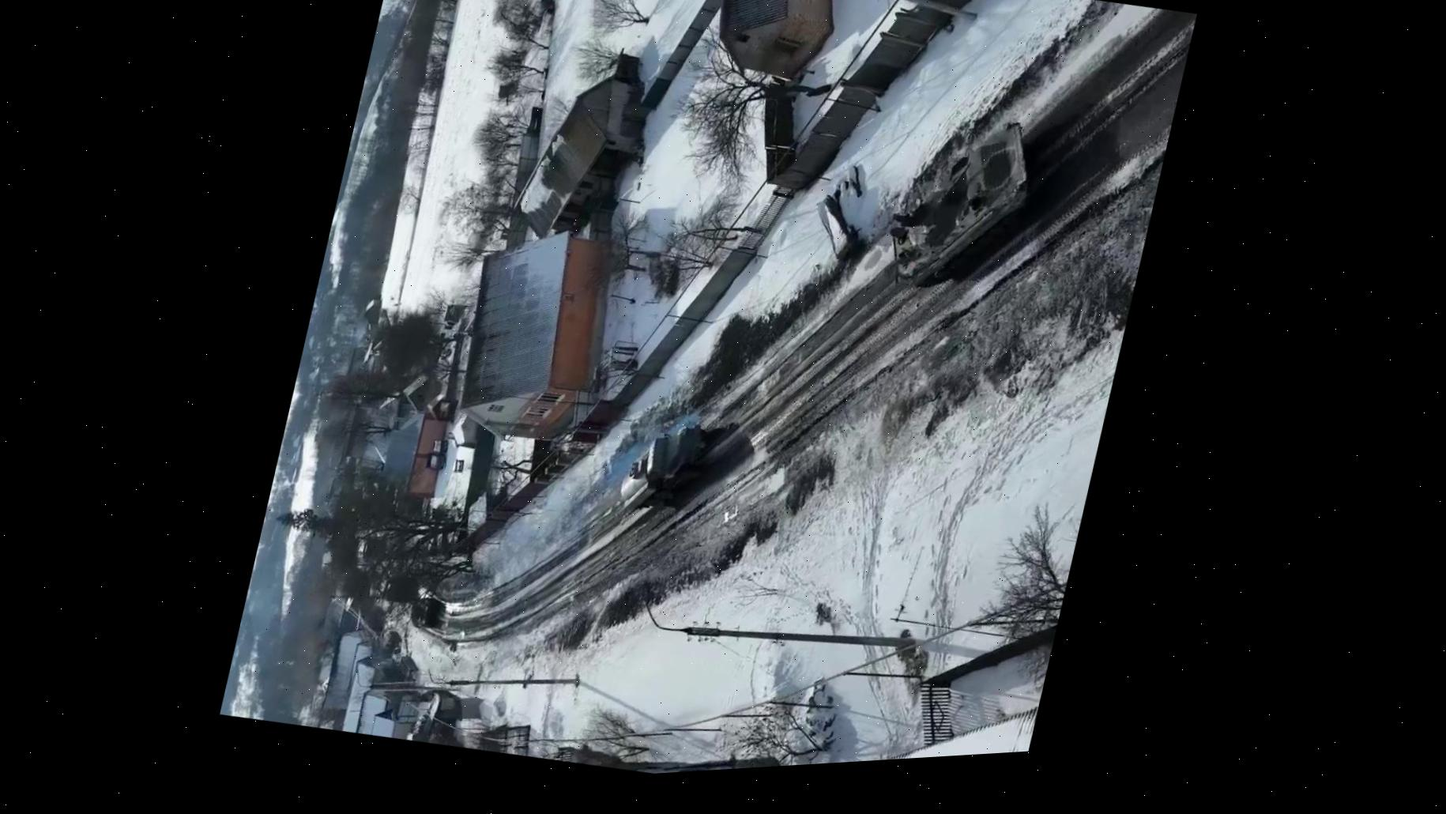tank: (874, 99, 1042, 308)
truck: (615, 412, 712, 521), (394, 585, 449, 643), (368, 564, 414, 611), (347, 527, 394, 572)
